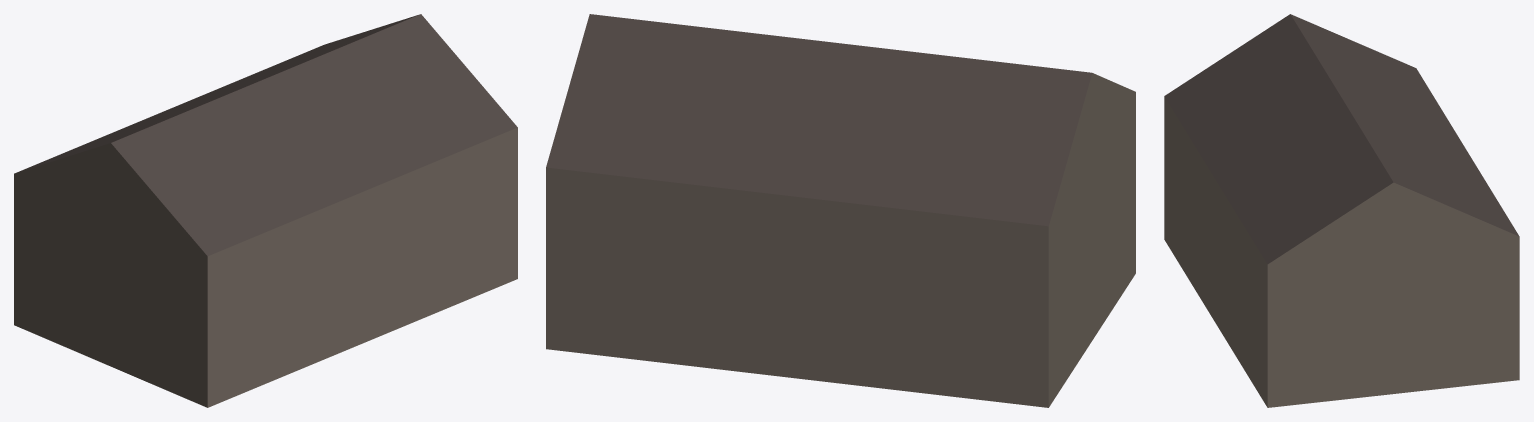
3 views of the same model, side by side, from view 1: azimuth 30°, elevation 25°; view 2: azimuth 150°, elevation 25°; view 3: azimuth 270°, elevation 25° (orthographic). The views are drawn at different scales.
Parts seen in each view (by area): view 1: HP-w380339888; view 2: HP-w380339888; view 3: HP-w380339888.
Boxes of the visible parts, x1=… form: HP-w380339888: x1=14, y1=14, x2=517, y2=407; HP-w380339888: x1=546, y1=14, x2=1135, y2=407; HP-w380339888: x1=1164, y1=14, x2=1519, y2=407.
Size of the model in its own units: 26.42 by 13.28 by 20.21.
